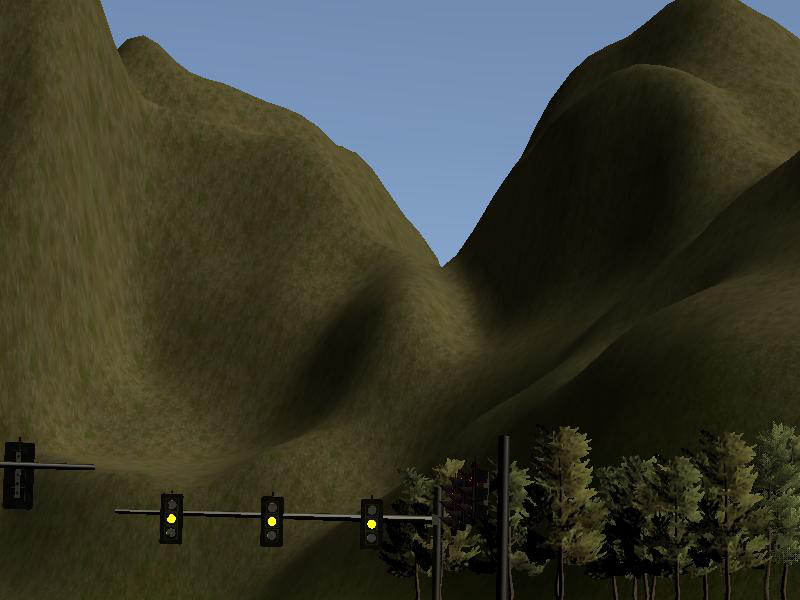yellow: (261, 495, 284, 546), (160, 494, 183, 544), (362, 498, 383, 549)
